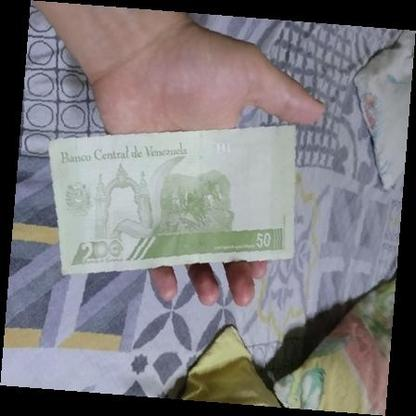fifty-back-vef: (48, 125, 297, 274)
